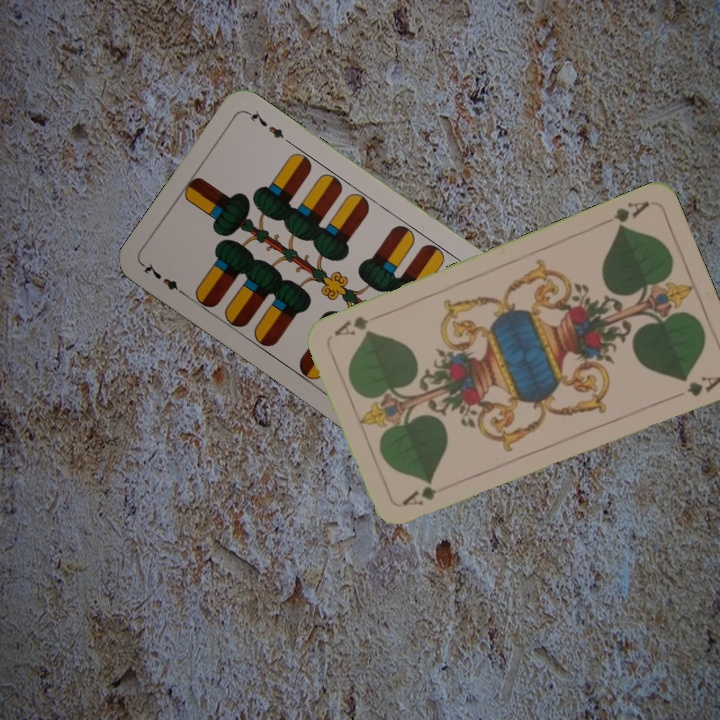E7: (139, 259, 190, 300)
GA: (608, 197, 652, 233), (397, 482, 455, 509)
